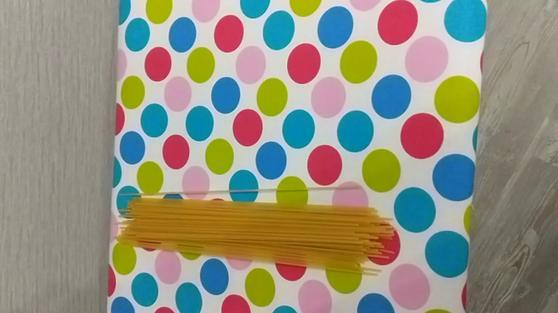spaghetti: (119, 178, 404, 279)
